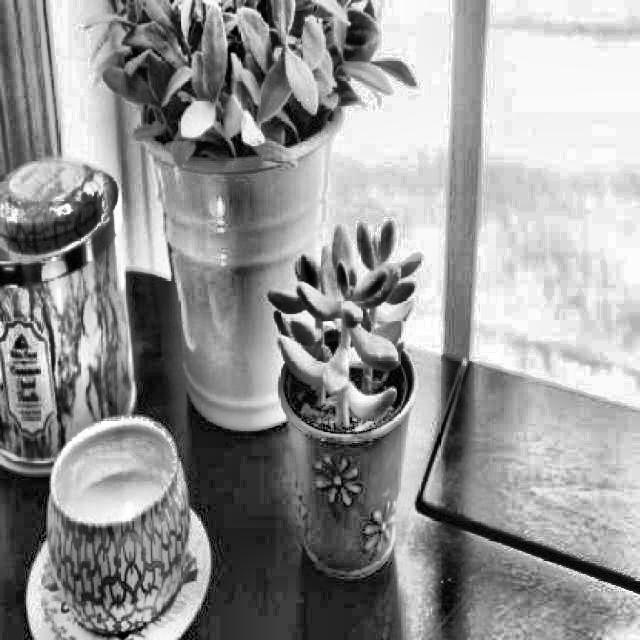plants: (141, 4, 304, 430), (282, 235, 421, 583)
